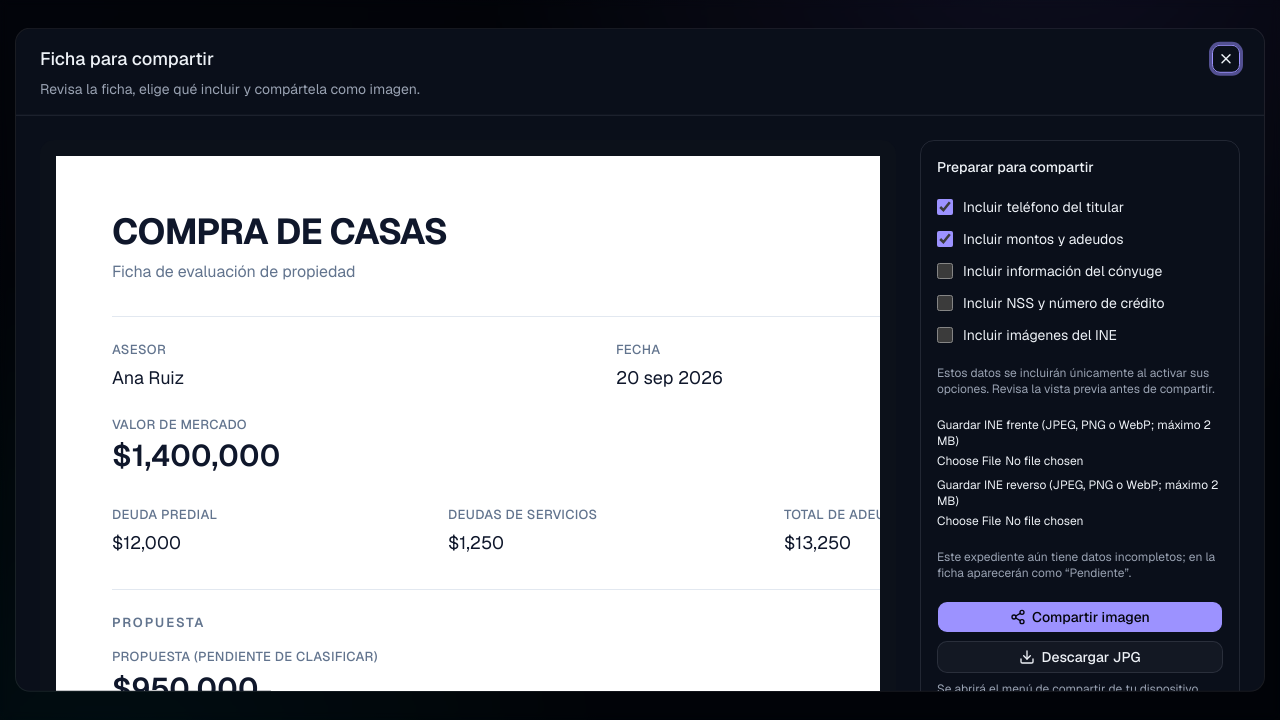
Test case: RenovaShareDialog — sharing › uses the native share sheet with the JPG file when the browser can share files
This screenshot has width=1280, height=720.
Expected: the text "Se abrirá el menú de compartir de tu dispositivo." is shown, [937,681,1223,691]
Click the button "Compartir imagen" at (1080, 617), box [937,601,1223,633]
(page scrolled)
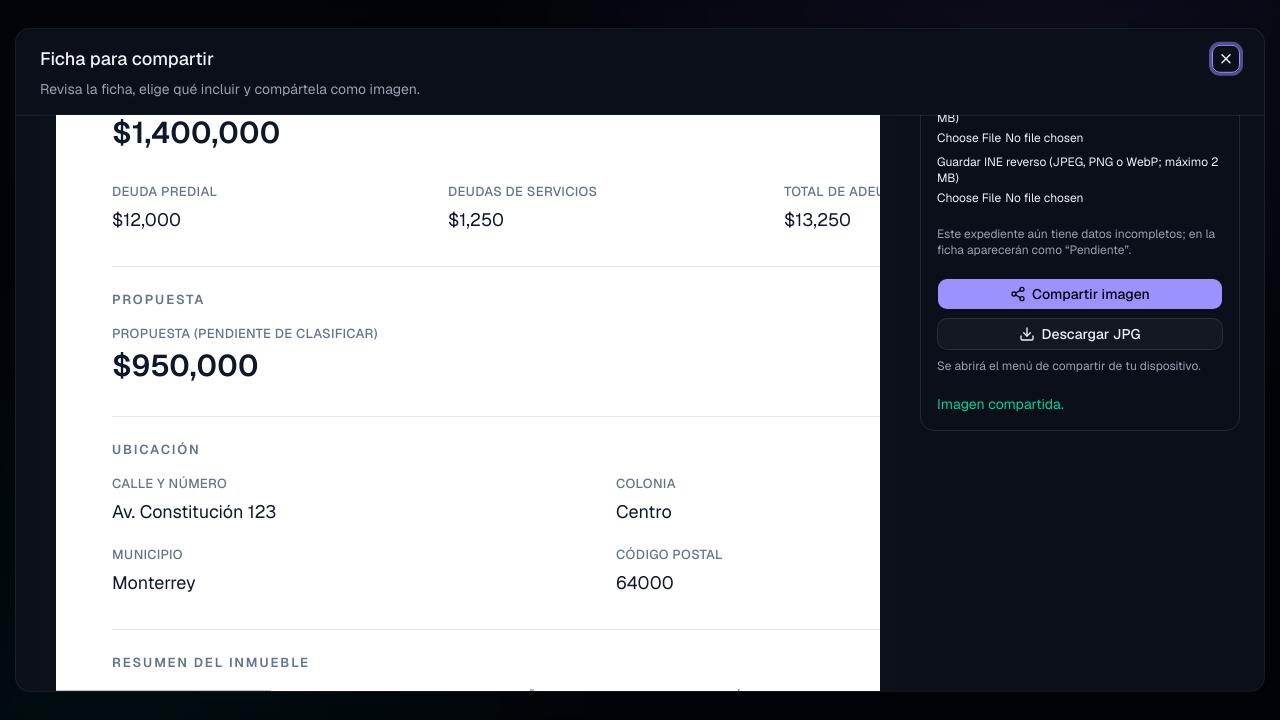
Expected: the text "Imagen compartida." is shown, [937,395,1064,413]
